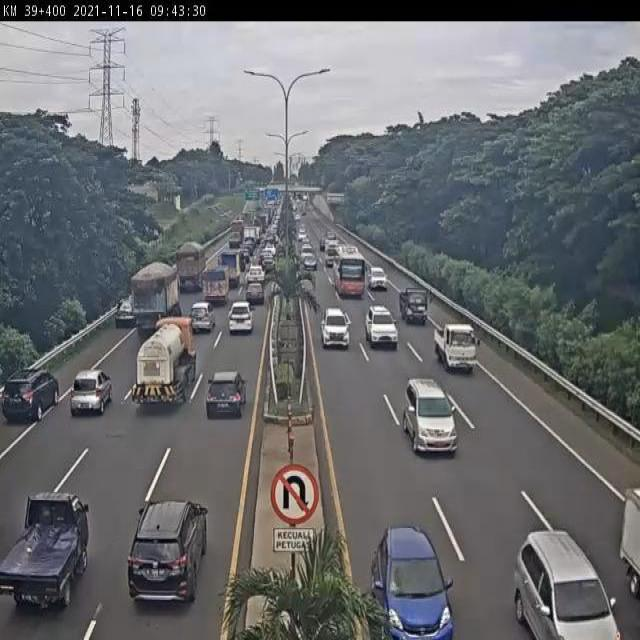big bus: (332, 243, 366, 296)
car: (0, 489, 90, 640), (517, 528, 624, 640), (372, 526, 457, 640), (126, 499, 212, 609), (402, 376, 461, 456), (0, 363, 58, 432), (435, 321, 481, 372), (205, 369, 248, 422), (68, 367, 113, 417), (365, 304, 398, 347), (322, 308, 351, 348), (187, 302, 217, 338), (400, 287, 427, 325), (228, 304, 253, 340), (112, 296, 136, 329), (244, 283, 266, 312), (369, 263, 389, 292)
small truck: (200, 263, 229, 308)
truck-m-: (125, 316, 195, 417), (130, 262, 180, 338), (173, 241, 208, 295)
